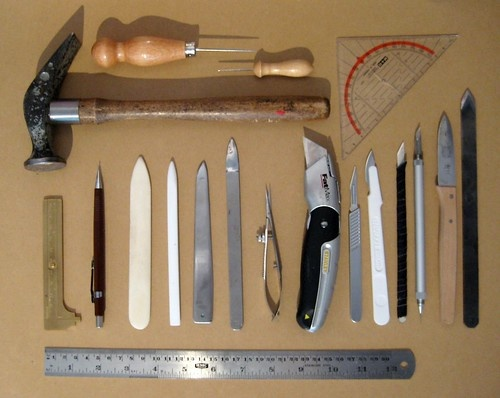hammer: (18, 32, 340, 167)
